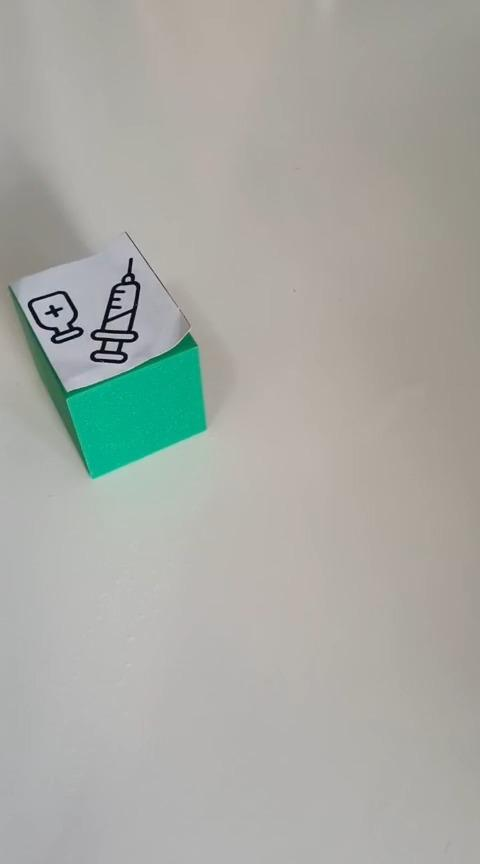antiseptic cream: (7, 229, 208, 479)
